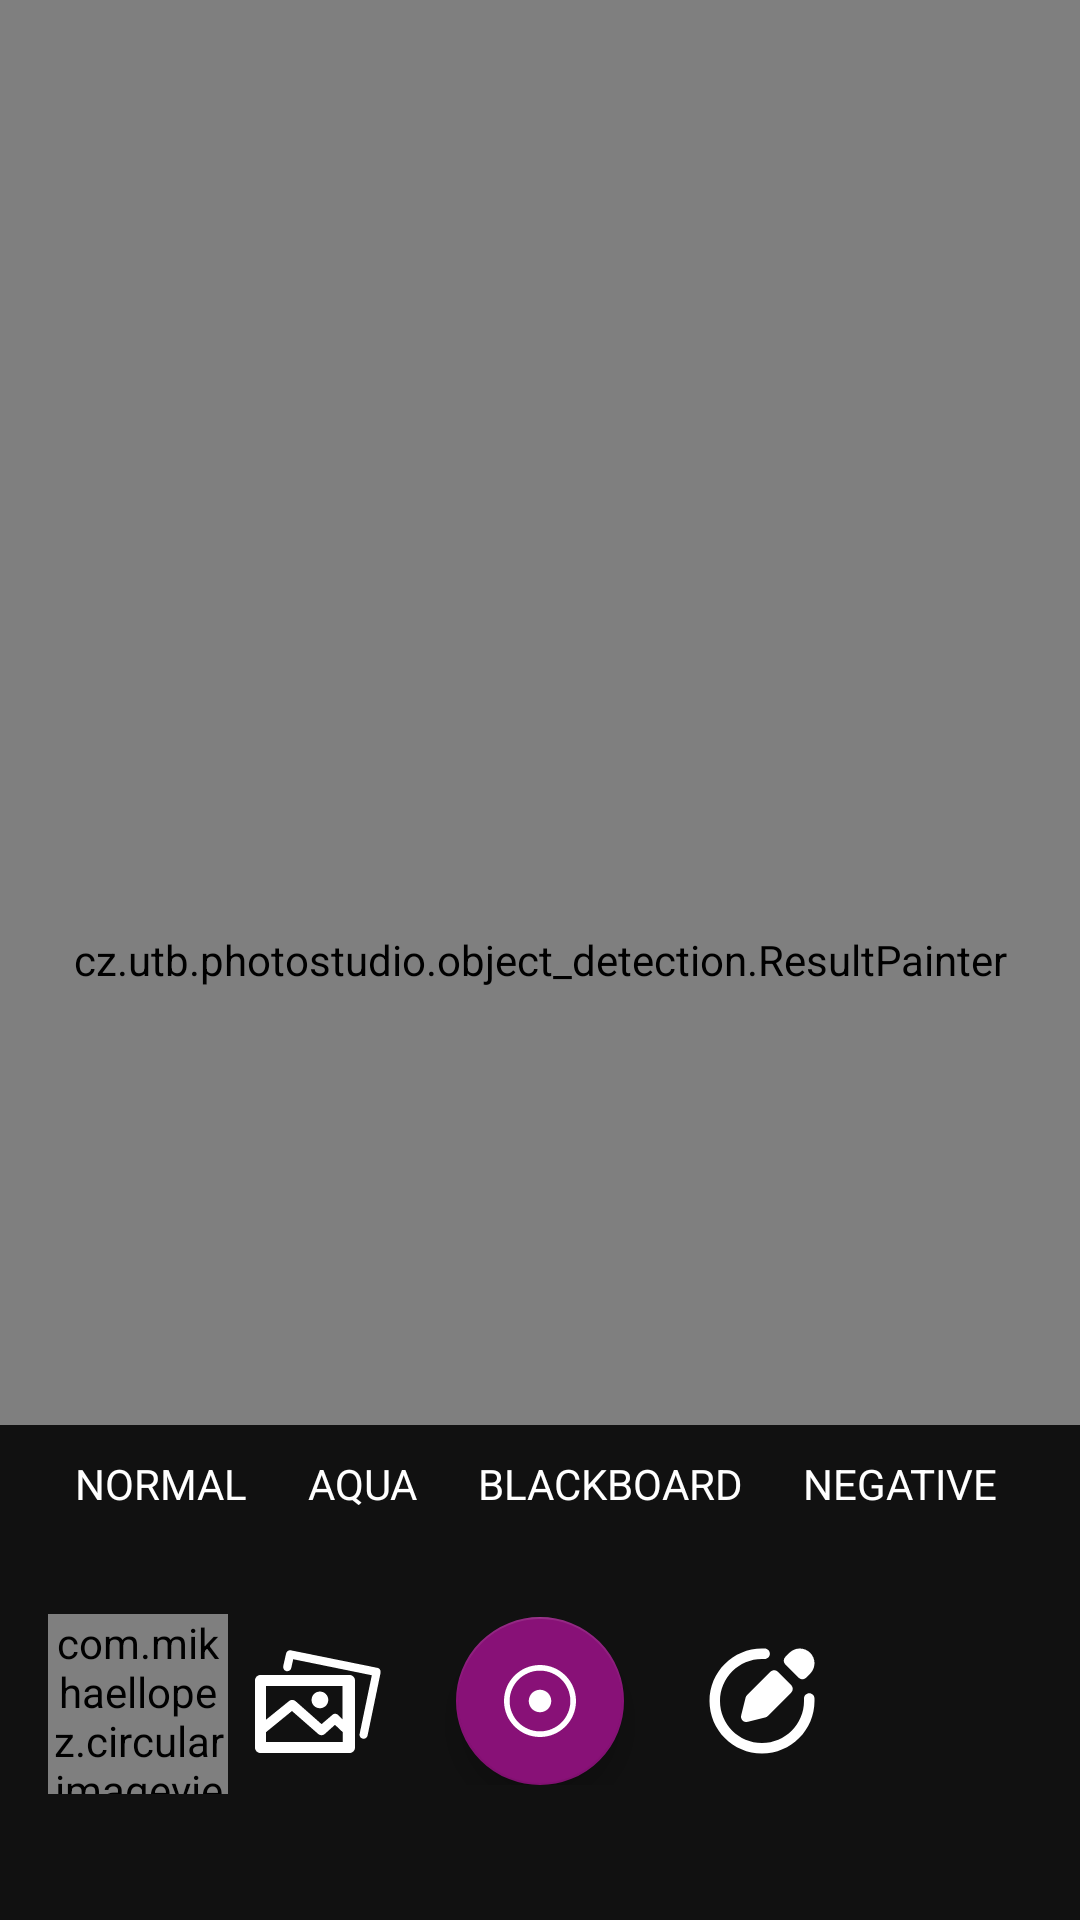

Point at icon controls on the screen. Image size 1080*1920, points as [x,y].
edit: [762,1701]
gallery: [318,1701]
take photo: [540,1701]
